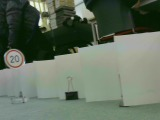speed_20: (2, 48, 25, 70)
